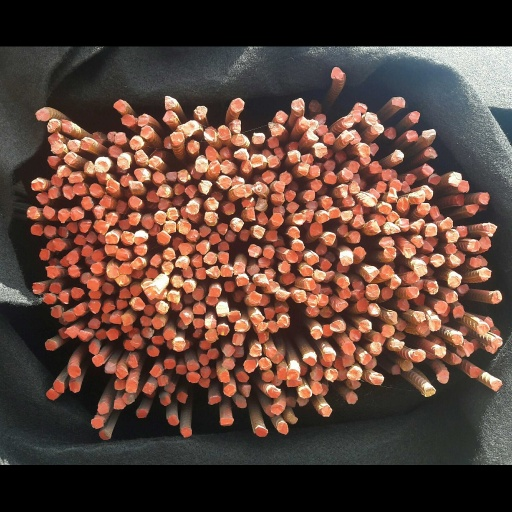dipstick: (144, 285, 160, 300), (95, 157, 110, 172), (116, 153, 131, 168), (364, 266, 379, 281), (128, 135, 144, 149), (250, 153, 266, 167), (412, 262, 428, 276), (230, 217, 244, 232), (274, 300, 289, 314), (347, 366, 362, 380), (313, 142, 327, 157), (133, 168, 149, 181), (131, 333, 144, 349), (196, 155, 207, 173), (51, 140, 65, 154), (80, 196, 94, 210), (94, 220, 108, 234), (148, 155, 162, 169), (198, 180, 212, 194), (184, 184, 198, 198), (179, 311, 193, 325), (253, 181, 267, 195), (380, 265, 394, 279), (445, 229, 459, 243), (381, 324, 395, 338), (35, 107, 50, 120), (56, 164, 71, 177), (35, 191, 50, 204), (120, 113, 135, 126), (156, 185, 171, 198), (153, 210, 166, 225), (204, 211, 217, 226), (130, 297, 145, 310), (154, 300, 169, 313), (217, 125, 230, 140), (247, 244, 262, 257), (369, 372, 384, 385), (366, 283, 379, 298), (402, 243, 415, 258), (430, 254, 445, 267), (397, 197, 409, 213), (67, 171, 84, 182), (63, 151, 77, 164), (80, 137, 94, 150), (89, 183, 102, 197), (71, 206, 84, 220), (26, 206, 40, 219), (105, 212, 118, 226), (106, 178, 119, 192), (169, 131, 183, 144), (134, 150, 147, 164), (166, 207, 180, 220), (177, 221, 191, 234), (134, 231, 148, 244), (104, 243, 118, 256), (186, 229, 200, 242), (205, 329, 219, 342), (172, 337, 185, 351), (206, 265, 219, 279), (204, 127, 217, 141), (267, 155, 280, 169), (261, 170, 275, 183), (255, 197, 268, 211), (291, 98, 304, 112), (323, 171, 336, 185), (264, 228, 278, 241), (248, 292, 262, 305), (293, 289, 307, 302), (249, 343, 262, 357), (342, 341, 355, 355), (367, 220, 381, 233), (58, 208, 70, 223), (89, 262, 104, 274), (234, 148, 249, 160), (269, 124, 284, 136), (253, 274, 268, 286), (275, 289, 290, 301), (330, 320, 345, 332), (449, 171, 461, 186), (379, 236, 394, 248), (59, 120, 72, 133), (66, 139, 79, 152), (113, 99, 126, 112), (140, 125, 153, 138), (128, 212, 141, 225), (163, 110, 176, 123), (186, 201, 199, 214), (53, 238, 66, 251), (157, 231, 170, 244), (116, 248, 129, 261), (145, 266, 158, 279), (231, 98, 244, 111), (187, 140, 200, 153), (218, 176, 231, 189), (232, 132, 245, 145), (271, 192, 284, 205), (270, 213, 283, 226), (276, 315, 289, 328), (303, 278, 316, 291), (359, 319, 372, 332), (340, 252, 353, 265), (397, 218, 410, 231), (383, 246, 396, 259), (411, 190, 424, 203), (436, 370, 449, 383), (31, 178, 45, 190), (63, 186, 75, 200), (43, 205, 55, 219), (78, 220, 92, 232), (92, 204, 104, 218), (99, 194, 111, 208), (128, 195, 142, 207), (121, 231, 133, 245), (105, 266, 119, 278), (179, 242, 191, 256), (53, 379, 65, 393), (186, 371, 200, 383), (235, 320, 249, 332), (193, 106, 207, 118), (279, 171, 291, 185), (243, 207, 255, 221), (310, 222, 322, 236), (258, 357, 272, 369), (358, 353, 372, 365), (333, 299, 347, 311), (357, 298, 369, 312), (479, 236, 491, 250), (466, 239, 480, 251), (411, 311, 425, 323), (165, 96, 176, 111), (78, 330, 93, 341), (384, 223, 400, 233), (47, 119, 59, 132), (50, 174, 63, 186), (109, 145, 122, 157), (44, 224, 56, 237), (119, 218, 132, 230), (178, 169, 190, 182), (66, 251, 78, 264), (45, 266, 58, 278), (31, 282, 44, 294), (117, 274, 130, 286), (149, 254, 161, 267), (176, 257, 189, 269), (167, 291, 180, 303), (121, 314, 134, 326), (68, 365, 80, 378), (88, 341, 100, 354), (91, 355, 104, 367), (146, 345, 159, 357), (149, 365, 162, 377), (96, 402, 109, 414), (221, 264, 233, 277), (208, 161, 220, 174), (233, 185, 246, 197), (221, 160, 233, 173), (252, 132, 265, 144), (286, 202, 299, 214), (275, 110, 288, 122), (297, 162, 309, 175), (307, 166, 320, 178), (310, 179, 322, 192), (321, 196, 333, 209), (253, 225, 265, 238), (262, 247, 275, 259), (285, 250, 298, 262), (288, 226, 300, 239), (306, 253, 319, 265), (278, 260, 290, 273), (262, 307, 275, 319), (313, 269, 326, 281), (264, 346, 277, 358), (261, 370, 274, 382), (345, 392, 358, 404), (325, 369, 337, 382), (310, 326, 322, 339), (370, 342, 382, 355), (368, 303, 380, 316), (337, 276, 349, 289), (315, 211, 328, 223), (352, 246, 365, 258), (323, 133, 336, 145), (354, 102, 367, 114), (364, 112, 377, 124), (341, 130, 353, 143), (335, 149, 347, 162), (358, 144, 370, 157), (378, 202, 391, 214), (384, 126, 396, 139), (423, 129, 435, 142), (424, 146, 437, 158), (425, 223, 437, 236), (440, 217, 453, 229), (484, 223, 496, 236), (490, 291, 502, 304), (447, 275, 460, 287), (426, 281, 438, 294), (406, 286, 419, 298), (428, 319, 441, 331), (435, 301, 447, 314), (47, 133, 61, 144), (133, 244, 147, 255), (241, 196, 255, 207), (250, 313, 264, 324), (268, 279, 279, 293), (304, 306, 318, 317), (336, 261, 350, 272), (353, 214, 364, 228), (337, 184, 348, 198), (412, 234, 423, 248), (479, 267, 490, 281), (362, 196, 377, 206), (114, 132, 126, 144), (173, 183, 185, 195), (84, 231, 96, 243), (206, 197, 218, 209), (223, 203, 235, 215), (148, 223, 160, 235), (130, 283, 142, 295), (161, 262, 173, 274), (182, 281, 194, 293), (224, 280, 236, 292), (152, 317, 164, 329), (106, 328, 118, 340), (69, 381, 81, 393), (123, 339, 135, 351), (222, 358, 234, 370), (244, 360, 256, 372), (222, 345, 234, 357), (204, 252, 216, 264), (233, 262, 245, 274), (293, 213, 305, 225), (282, 272, 294, 284), (319, 259, 331, 271), (320, 405, 332, 417), (349, 329, 361, 341), (328, 206, 340, 218), (348, 231, 360, 243), (369, 161, 381, 173), (421, 164, 433, 176), (417, 202, 429, 214), (381, 287, 393, 299), (397, 299, 409, 311), (413, 349, 425, 361), (477, 322, 489, 334), (416, 322, 428, 334), (73, 183, 86, 194), (84, 161, 95, 174), (137, 113, 148, 126), (30, 224, 43, 235), (142, 215, 153, 228), (68, 265, 79, 278), (89, 300, 100, 313), (72, 304, 85, 315), (119, 263, 132, 274), (196, 241, 209, 252), (192, 254, 203, 267), (216, 305, 229, 316), (216, 324, 229, 335), (87, 318, 100, 329), (44, 339, 57, 350), (127, 355, 138, 368), (125, 379, 136, 392), (113, 398, 126, 409), (91, 417, 104, 428), (187, 360, 200, 371), (176, 391, 187, 404), (223, 385, 236, 396), (205, 146, 216, 159), (230, 120, 241, 133), (241, 160, 252, 173), (255, 426, 268, 437), (310, 369, 323, 380), (311, 382, 322, 395), (322, 324, 333, 337), (323, 232, 334, 245), (344, 115, 355, 128), (351, 110, 362, 123), (392, 149, 403, 162), (429, 206, 440, 219), (444, 243, 457, 254), (449, 254, 460, 267), (450, 334, 463, 345), (42, 293, 56, 303), (257, 210, 267, 224), (278, 421, 288, 435), (298, 387, 312, 397), (370, 123, 384, 133), (391, 97, 405, 107), (57, 226, 68, 238), (66, 222, 78, 233), (146, 191, 158, 202), (153, 171, 164, 183), (39, 248, 50, 260), (48, 282, 60, 293), (58, 292, 69, 304), (71, 287, 83, 298), (87, 280, 99, 291), (102, 282, 113, 294), (102, 301, 114, 312), (132, 257, 144, 268), (171, 275, 182, 287), (193, 288, 204, 300), (208, 286, 220, 297), (228, 311, 240, 322), (140, 315, 152, 326), (66, 327, 78, 338), (46, 389, 58, 400), (142, 327, 154, 338), (163, 329, 175, 340), (163, 358, 175, 369), (207, 348, 219, 359), (200, 366, 211, 378), (167, 414, 179, 425), (237, 370, 248, 382), (232, 334, 244, 345), (236, 274, 248, 285), (217, 252, 228, 264), (289, 150, 300, 162), (301, 153, 313, 164), (301, 265, 313, 276), (258, 331, 269, 343), (271, 404, 283, 415), (287, 369, 299, 380), (324, 350, 336, 361), (341, 167, 352, 179), (306, 129, 318, 140), (316, 125, 328, 136), (309, 99, 320, 111), (331, 67, 343, 78), (324, 159, 336, 170), (376, 181, 387, 193), (409, 110, 420, 122), (406, 130, 418, 141), (458, 180, 469, 192), (479, 192, 490, 204), (456, 226, 468, 237), (391, 340, 403, 351), (469, 367, 481, 378), (434, 346, 446, 357), (453, 305, 464, 317), (457, 283, 468, 295), (47, 155, 60, 165), (164, 247, 174, 260), (200, 224, 210, 237), (193, 304, 206, 314), (109, 314, 122, 324), (151, 335, 164, 345), (274, 180, 284, 193), (291, 240, 304, 250), (307, 294, 317, 307), (267, 386, 280, 396), (303, 355, 316, 365), (428, 174, 441, 184), (396, 319, 406, 332), (219, 417, 233, 426), (48, 187, 59, 198), (51, 306, 62, 317), (119, 288, 130, 299), (206, 295, 217, 306), (143, 305, 154, 316), (205, 317, 216, 328), (100, 312, 111, 323), (143, 382, 154, 393), (164, 382, 175, 393), (233, 346, 244, 357), (303, 189, 314, 200), (317, 294, 328, 305), (316, 243, 327, 254), (315, 114, 326, 125), (390, 179, 401, 190), (405, 173, 416, 184), (157, 199, 169, 209), (74, 235, 86, 245), (217, 223, 227, 235), (91, 250, 103, 260), (115, 299, 127, 309), (196, 267, 206, 279), (192, 318, 204, 328), (115, 368, 127, 378), (114, 379, 126, 389), (123, 394, 135, 404), (99, 429, 111, 439), (158, 374, 168, 386), (180, 427, 192, 437), (218, 372, 230, 382), (209, 234, 221, 244), (258, 257, 270, 267), (339, 289, 351, 299), (341, 210, 353, 220), (349, 181, 359, 193), (349, 161, 359, 173), (466, 203, 478, 213), (469, 257, 481, 267), (491, 379, 501, 391), (490, 337, 502, 347), (62, 312, 75, 321), (369, 143, 378, 156), (81, 273, 91, 284), (105, 362, 115, 373), (136, 408, 147, 418), (176, 364, 187, 374), (199, 354, 209, 365), (235, 397, 246, 407), (199, 377, 210, 387), (268, 137, 279, 147), (300, 116, 310, 127), (324, 270, 334, 281), (401, 181, 411, 192), (402, 360, 413, 370), (424, 386, 435, 396), (446, 292, 457, 302), (165, 171, 177, 180), (80, 247, 92, 256), (209, 396, 221, 405), (242, 385, 251, 397), (240, 228, 249, 240), (286, 190, 295, 202), (338, 223, 347, 235), (382, 169, 391, 181), (287, 141, 300, 149), (96, 329, 106, 339), (160, 395, 170, 405), (225, 231, 235, 241), (451, 354, 461, 364), (60, 256, 69, 267), (200, 340, 211, 349), (217, 242, 228, 251), (455, 194, 464, 205), (484, 316, 493, 327), (391, 364, 400, 374)
